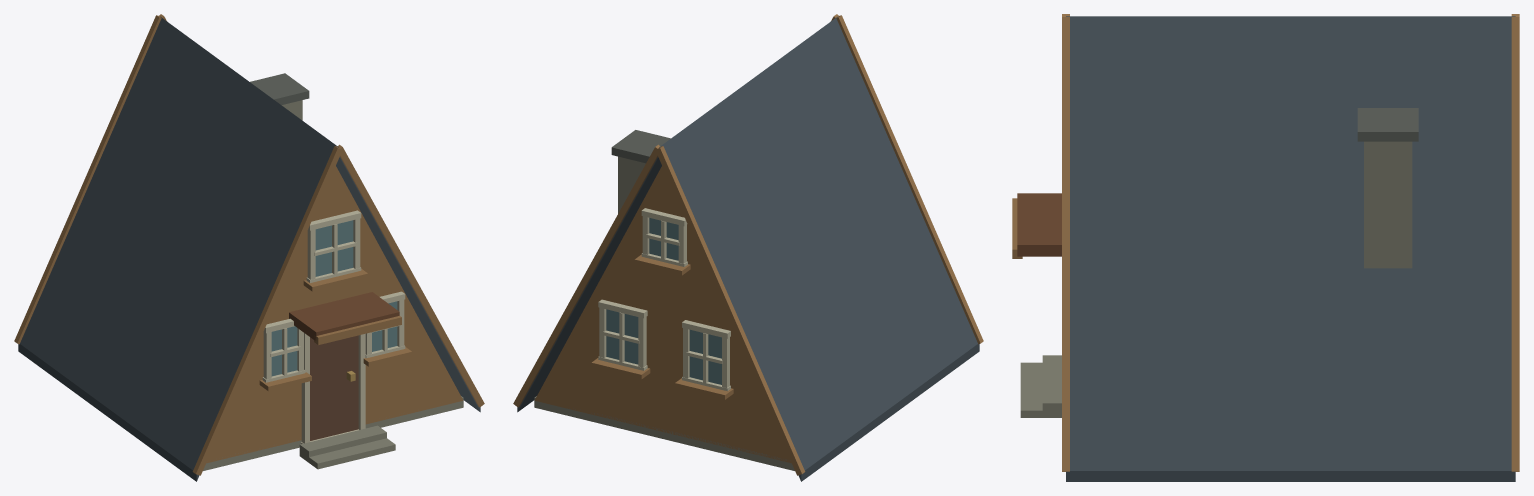
File: Building_Settlement_AFrameCabin_001.glb
3 renders of one model, left to right at view 1: azimuth 30°, elevation 25°; view 2: azimuth 150°, elevation 25°; view 3: azimuth 270°, elevation 25°, orthographic. The views are drawn at different scales.
Visible parts, largest first — view 1: Building_Settlement_AFrameCabin_001; view 2: Building_Settlement_AFrameCabin_001; view 3: Building_Settlement_AFrameCabin_001.
Part boxes in pixels (bbox=[...]): Building_Settlement_AFrameCabin_001: bbox=[14, 14, 484, 481]; Building_Settlement_AFrameCabin_001: bbox=[513, 14, 983, 481]; Building_Settlement_AFrameCabin_001: bbox=[1012, 14, 1519, 481].
Size of the model in its own units: 5.19 by 5.16 by 6.27.
